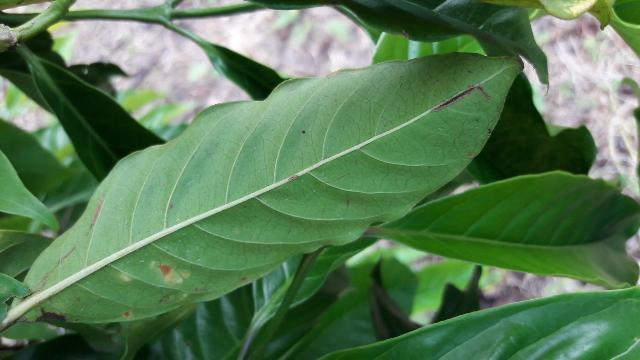rust_level_1: (7, 49, 521, 321)
